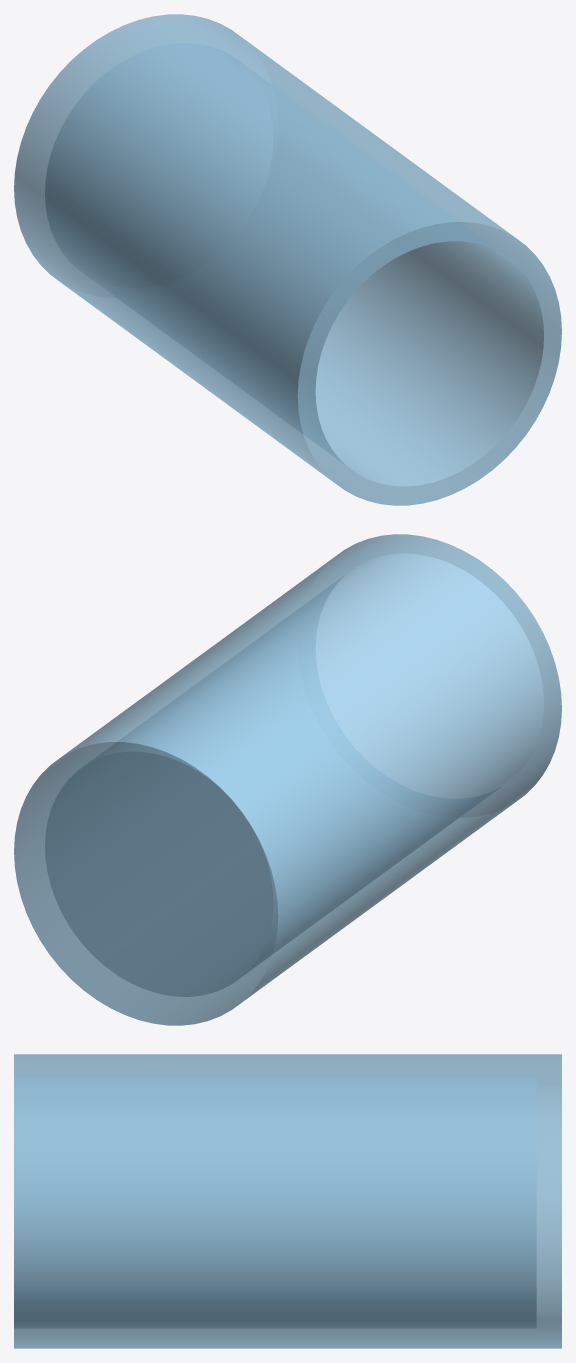
The model's file is glass.obj.
The picture shows the model from 3 angles, top to bottom: view 1: azimuth 30°, elevation 25°; view 2: azimuth 150°, elevation 25°; view 3: azimuth 270°, elevation 25°; orthographic projection. The views are drawn at different scales.
Parts seen in each view (by area): view 1: mesh1, mesh3, mesh2, mesh0; view 2: mesh1, mesh3, mesh0, mesh4, mesh2; view 3: mesh1, mesh3.
Part boxes in pixels (left/top/right/bottom): mesh1: left=14, top=14, right=561, bottom=505; mesh3: left=45, top=43, right=543, bottom=486; mesh2: left=297, top=222, right=561, bottom=505; mesh0: left=14, top=14, right=271, bottom=297; mesh1: left=14, top=534, right=561, bottom=1025; mesh3: left=87, top=554, right=543, bottom=975; mesh0: left=14, top=742, right=278, bottom=1025; mesh4: left=45, top=752, right=272, bottom=996; mesh2: left=304, top=534, right=561, bottom=817; mesh1: left=14, top=1054, right=561, bottom=1348; mesh3: left=14, top=1074, right=536, bottom=1328.
Size of the model in its own units: 0.00326 by 0.00326 by 0.00607.
